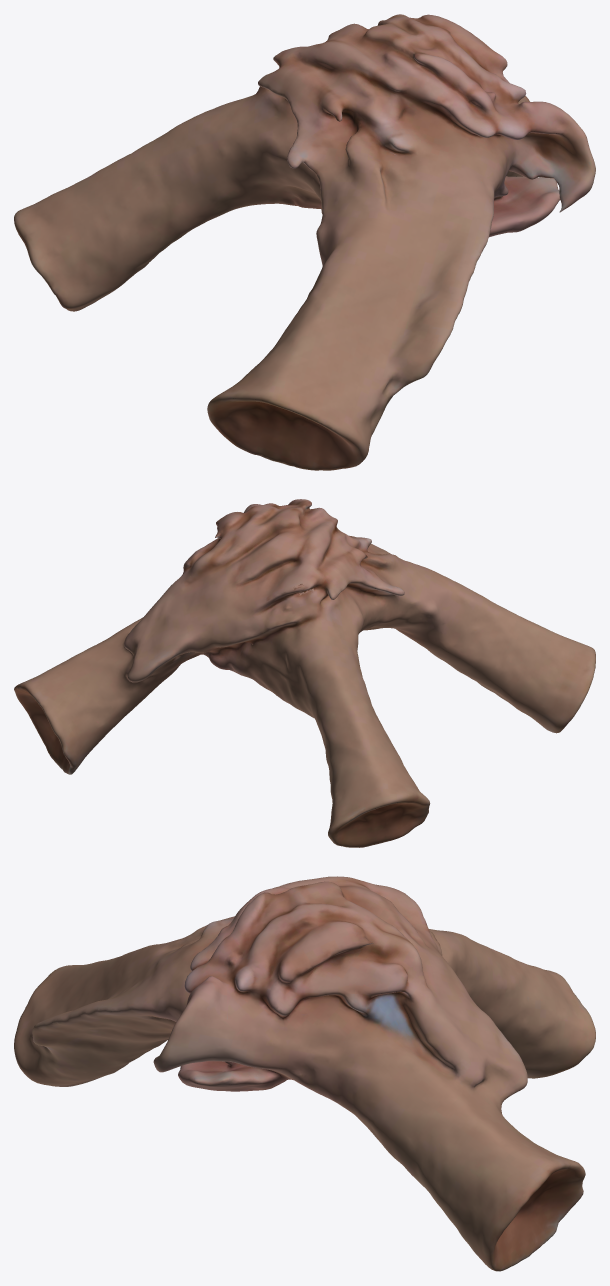
Rendered from e52b94d023a9_hands_connecting_ea.fbx.
3 views of the same model, one above another, from view 1: azimuth 30°, elevation 25°; view 2: azimuth 150°, elevation 25°; view 3: azimuth 270°, elevation 25° (orthographic). The views are drawn at different scales.
Visible parts, largest first — view 1: high_poly; view 2: high_poly; view 3: high_poly.
Part boxes in pixels (left/top/right/bottom): high_poly: left=14, top=14, right=595, bottom=470; high_poly: left=14, top=499, right=595, bottom=847; high_poly: left=14, top=876, right=595, bottom=1271.
Size of the model in its own units: 100 by 54.93 by 98.43.
